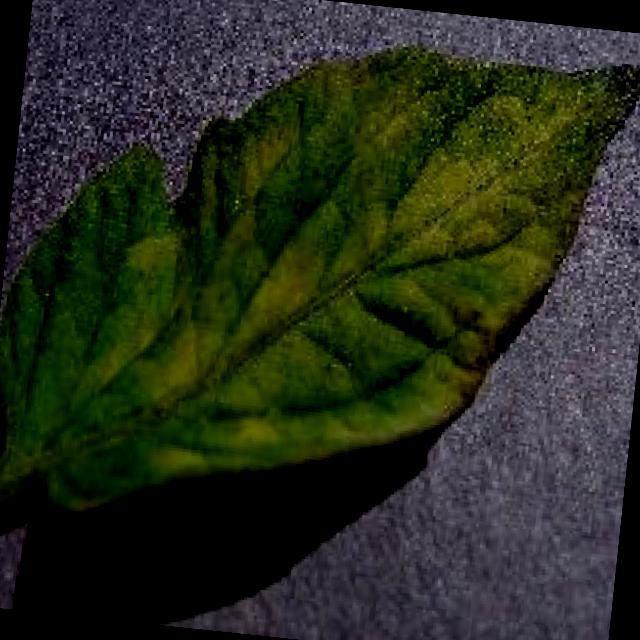leaf mold: (0, 41, 640, 517)
